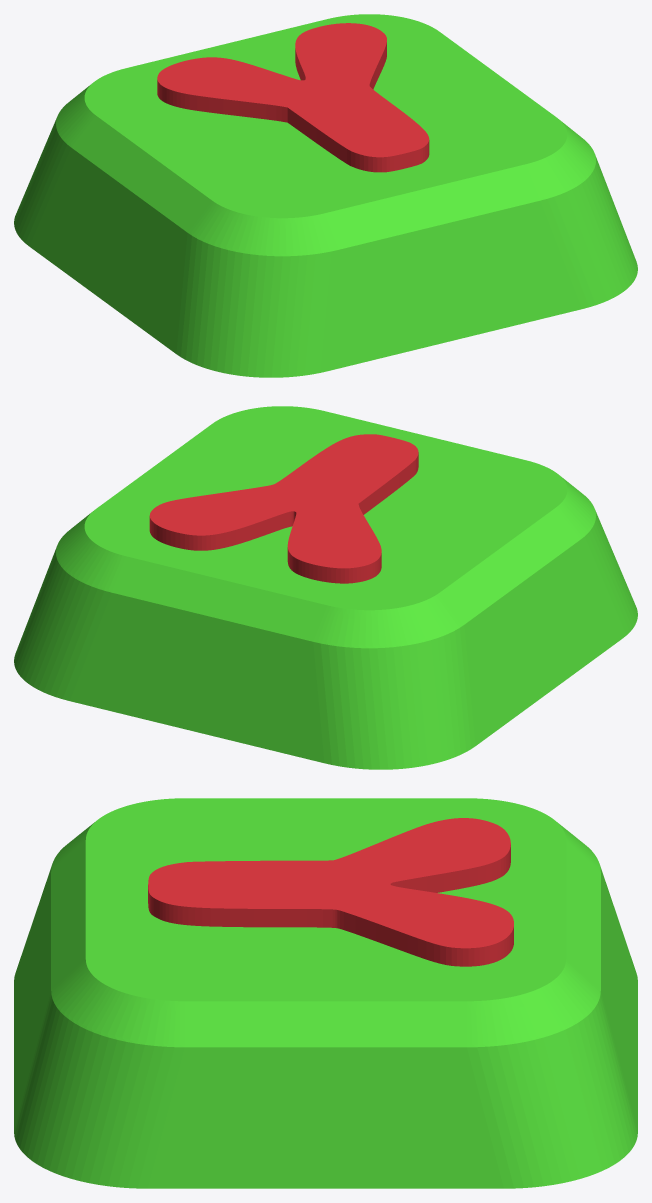
The picture shows the model from 3 angles, top to bottom: view 1: azimuth 30°, elevation 25°; view 2: azimuth 150°, elevation 25°; view 3: azimuth 270°, elevation 25°; orthographic projection. The views are drawn at different scales.
Parts seen in each view (by area): view 1: CAPS_Y, FONT_Y; view 2: CAPS_Y, FONT_Y; view 3: CAPS_Y, FONT_Y.
Boxes of the visible parts, x1,y1,x2,y2 form: CAPS_Y: [14, 14, 637, 377]; FONT_Y: [157, 23, 429, 172]; CAPS_Y: [14, 406, 637, 769]; FONT_Y: [149, 434, 418, 583]; CAPS_Y: [14, 798, 637, 1188]; FONT_Y: [148, 818, 513, 966].
Bounding box in the file's own units: 18 × 5.59 × 18.
